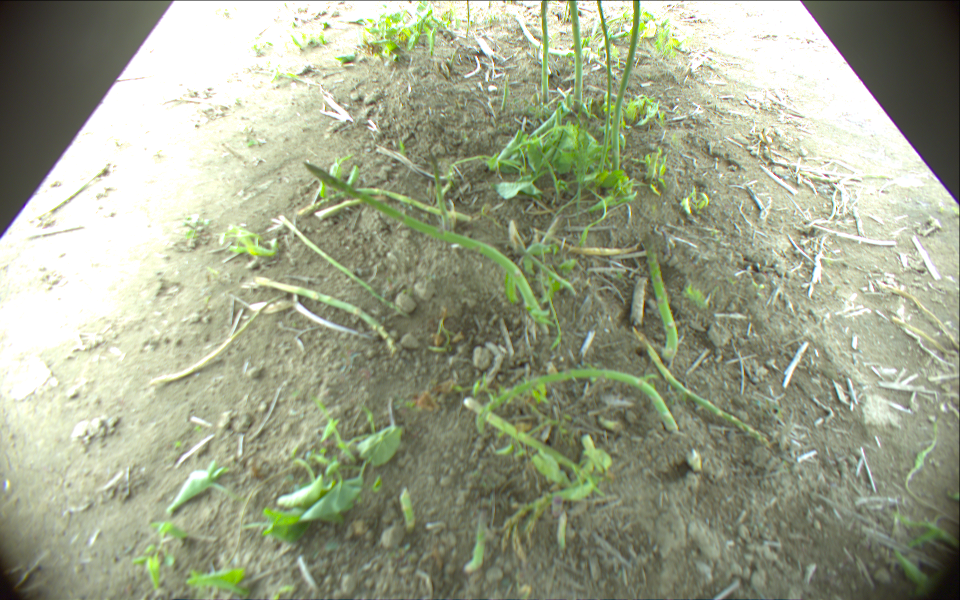aspa: (300, 161, 543, 313), (639, 336, 770, 445), (275, 213, 410, 316), (476, 369, 681, 433), (247, 276, 400, 351), (464, 397, 586, 476), (299, 192, 481, 223), (610, 1, 641, 172), (639, 233, 679, 364), (595, 1, 612, 173), (429, 148, 451, 233), (315, 195, 388, 220), (569, 1, 584, 110), (470, 508, 490, 569), (539, 1, 549, 102), (551, 495, 567, 551), (397, 489, 417, 529), (505, 271, 518, 305), (463, 1, 470, 42)
